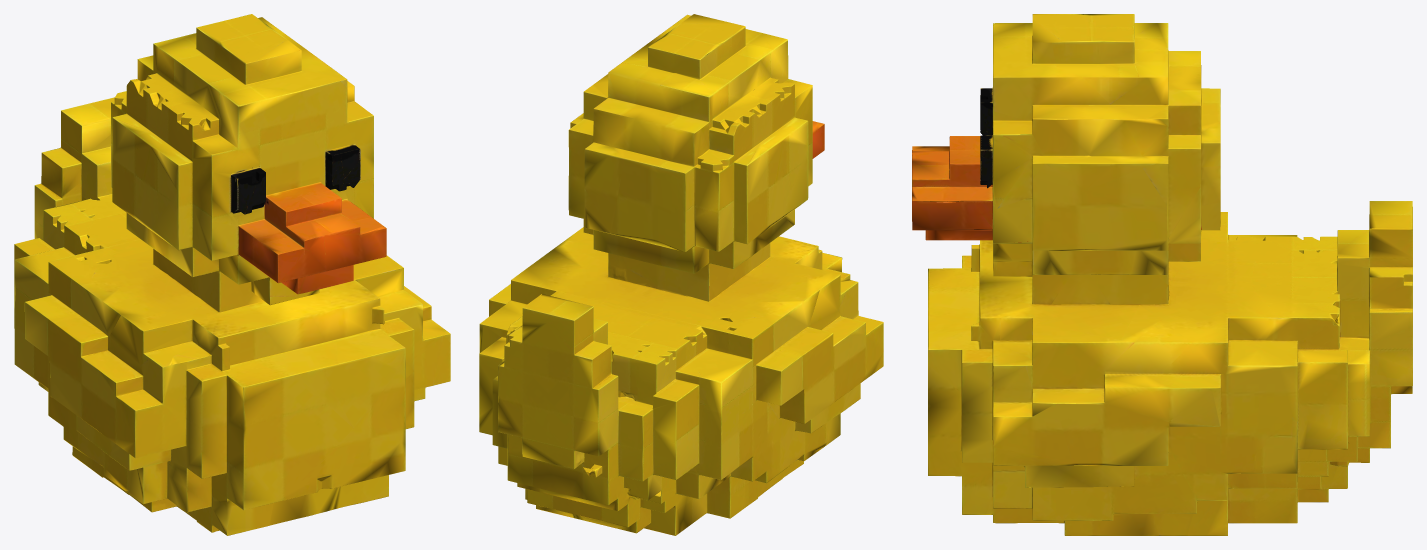
Rendered from RubberDuck.fbx.
3 renders of one model, left to right at view 1: azimuth 30°, elevation 25°; view 2: azimuth 150°, elevation 25°; view 3: azimuth 270°, elevation 25°, orthographic. The views are drawn at different scales.
Visible parts, largest first — view 1: Mesh_0; view 2: Mesh_0; view 3: Mesh_0.
Boxes of the visible parts, x1,y1,x2,y2 form: Mesh_0: [14, 14, 450, 535]; Mesh_0: [479, 14, 883, 535]; Mesh_0: [912, 14, 1412, 535].
Bounding box in the file's own units: 142 × 190 × 189.
1 material, 1 textured.
